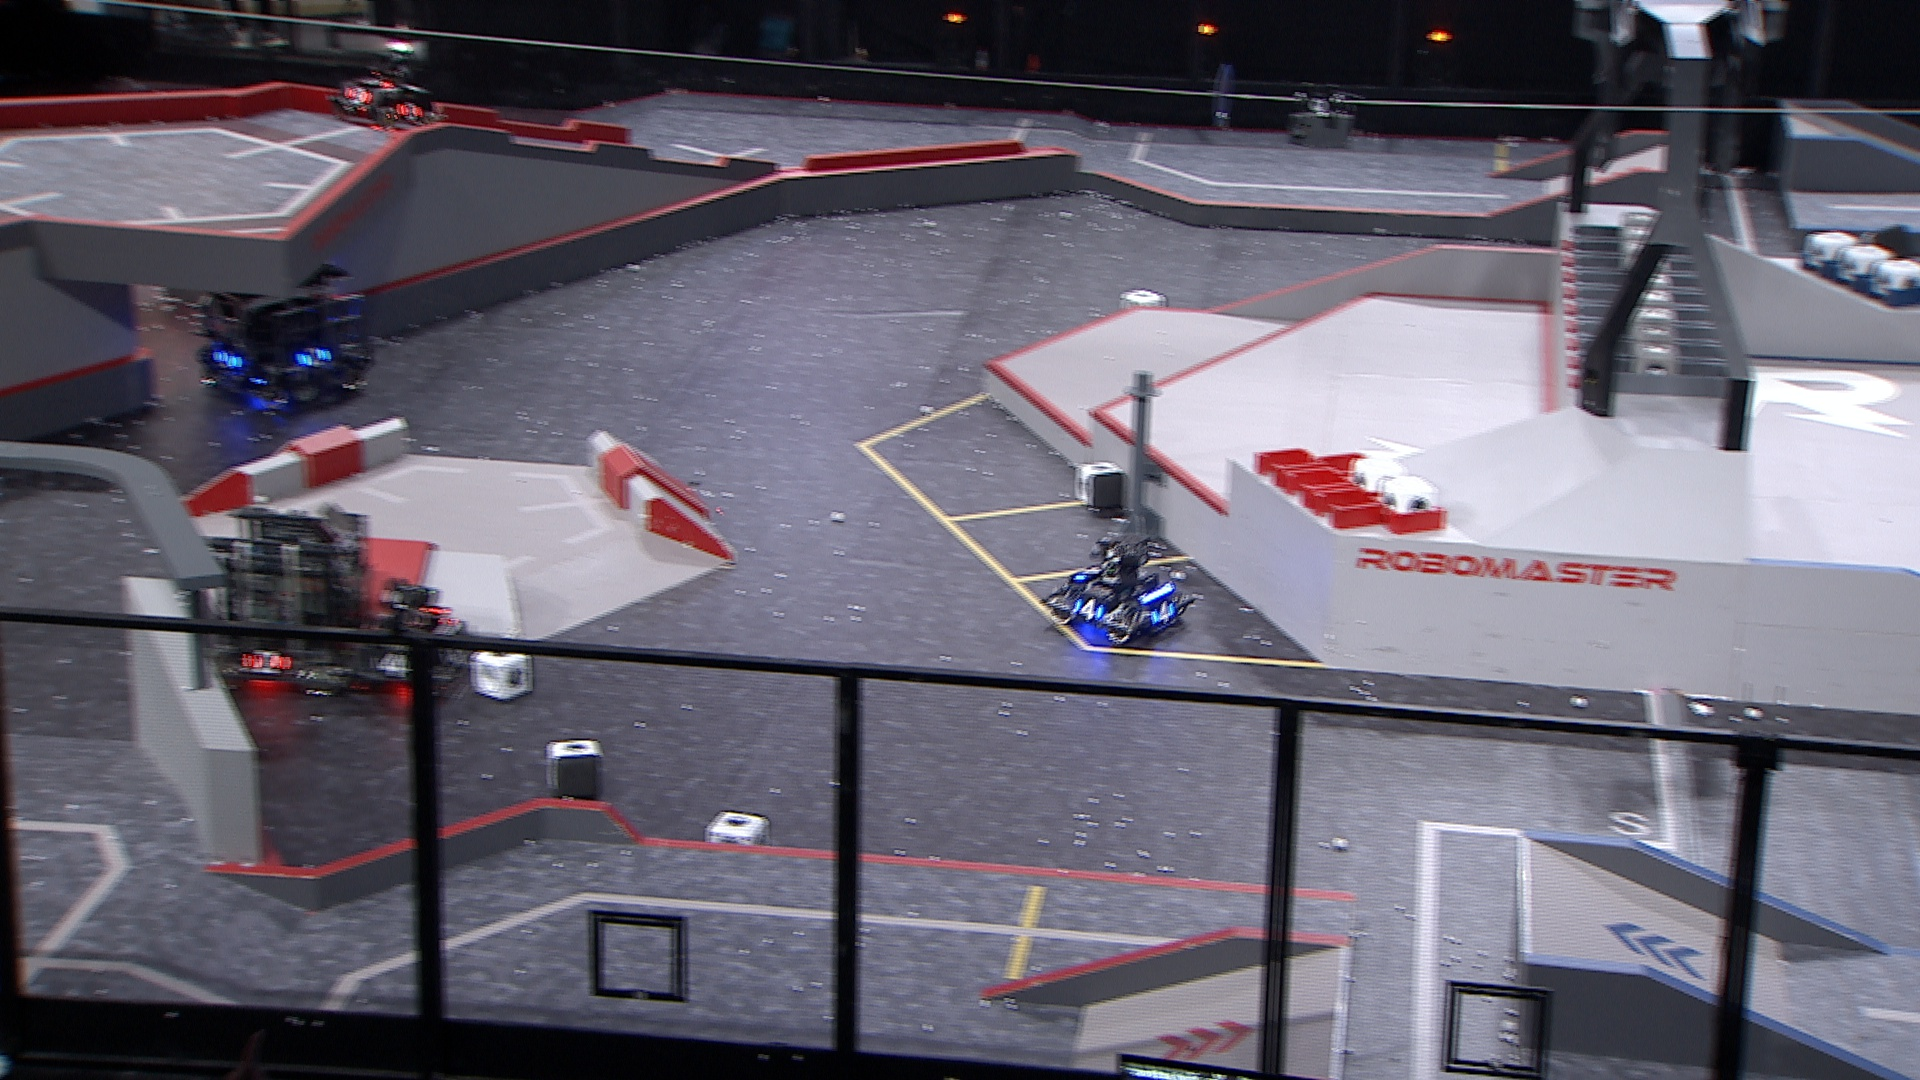armor: (240, 647, 291, 674), (368, 651, 413, 679), (291, 345, 330, 371), (211, 348, 245, 373), (1149, 597, 1178, 626), (357, 71, 394, 92), (1073, 597, 1105, 621), (1069, 562, 1101, 584), (342, 83, 371, 107), (394, 100, 425, 123)
car: (185, 496, 373, 700), (193, 253, 377, 406), (1043, 529, 1197, 650), (338, 579, 484, 705), (328, 49, 444, 133)
